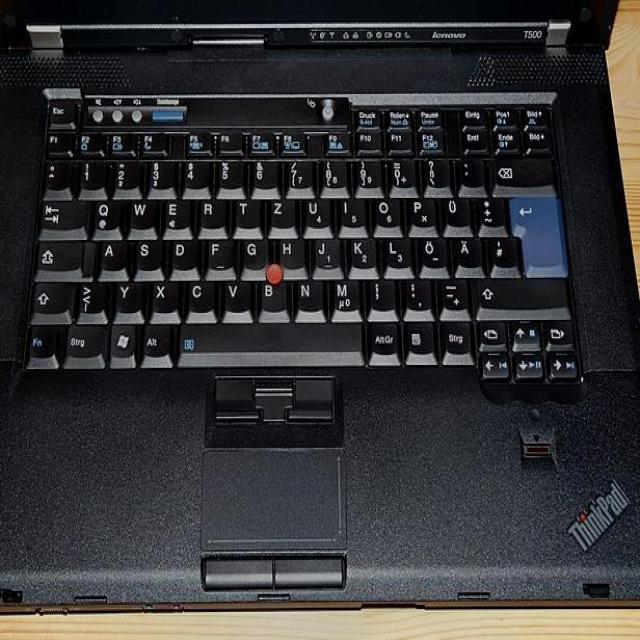0: (390, 159, 418, 192)
1: (78, 159, 106, 192)
2: (115, 160, 141, 194)
3: (148, 162, 176, 193)
4: (183, 160, 210, 194)
5: (215, 159, 245, 192)
6: (251, 159, 278, 192)
7: (287, 157, 313, 191)
8: (316, 157, 347, 195)
9: (355, 160, 381, 191)
a: (99, 239, 127, 274)
accent: (457, 157, 487, 192)
ae: (456, 238, 484, 271)
alt-left: (139, 320, 172, 366)
altgr-right: (365, 319, 400, 365)
b: (260, 281, 290, 317)
c: (186, 281, 216, 317)
caret: (43, 159, 71, 192)
comma: (369, 278, 397, 316)
d: (170, 239, 198, 272)
del: (491, 156, 555, 192)
e: (162, 196, 190, 229)
enter: (508, 192, 569, 275)
f: (206, 240, 234, 274)
g: (240, 240, 268, 274)
h: (275, 237, 304, 267)
hash: (492, 238, 520, 271)
i: (340, 196, 364, 226)
j: (312, 236, 340, 271)
k: (349, 236, 377, 271)
keyboard: (22, 90, 583, 382)
l: (385, 236, 413, 272)
less: (76, 281, 109, 321)
m: (332, 278, 360, 316)
minus: (441, 277, 469, 315)
n: (296, 278, 324, 316)
o: (369, 196, 400, 229)
oe: (421, 239, 447, 272)
p: (407, 195, 435, 227)
plus: (477, 198, 504, 230)
point: (404, 278, 434, 316)
q: (92, 199, 119, 229)
r: (198, 199, 226, 232)
s: (133, 237, 161, 274)
shift-left: (28, 280, 75, 322)
shift-lock: (31, 237, 95, 278)
shift-right: (475, 277, 569, 315)
space: (174, 322, 365, 367)
ss: (423, 157, 452, 191)
strg-left: (64, 323, 106, 366)
strg-right: (436, 317, 474, 364)
t: (234, 198, 260, 231)
tab: (37, 198, 88, 234)
u: (304, 196, 330, 229)
ue: (443, 195, 470, 227)
v: (224, 281, 254, 317)
w: (129, 199, 156, 229)
x: (151, 279, 181, 320)
y: (112, 281, 145, 321)
z: (269, 198, 294, 226)
